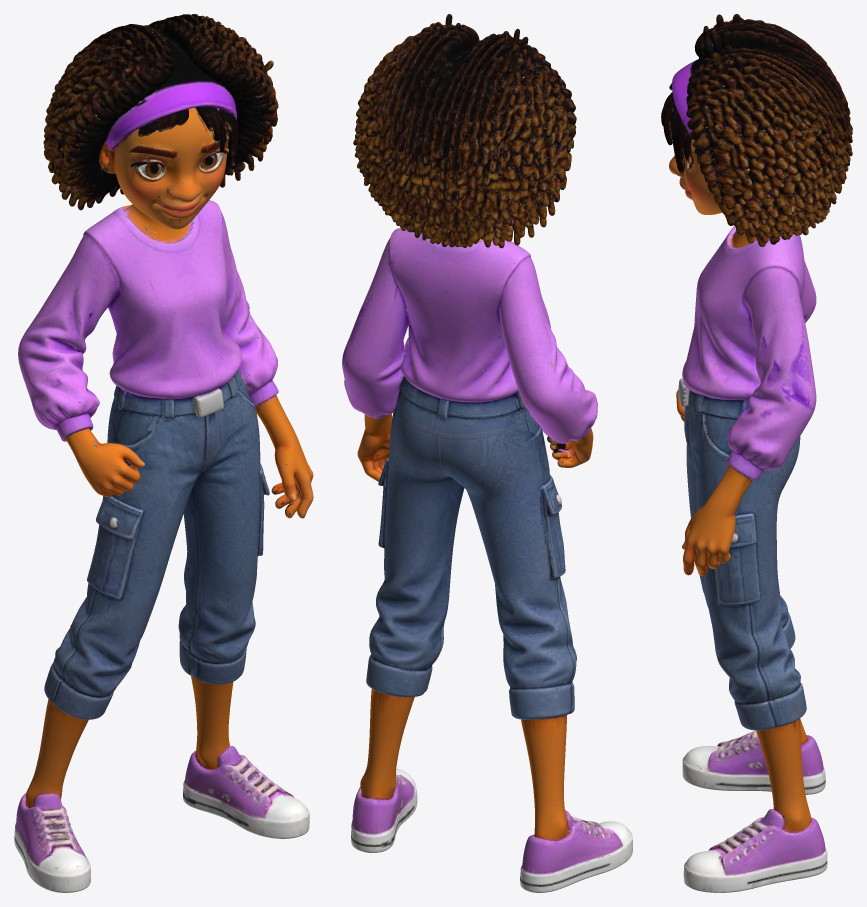
Rendered from Natalia.glb.
3 renders of one model, left to right at view 1: azimuth 30°, elevation 25°; view 2: azimuth 150°, elevation 25°; view 3: azimuth 270°, elevation 25°, orthographic.
Parts seen in each view (by area): view 1: mesh; view 2: mesh; view 3: mesh.
Boxes of the visible parts, box(x1,y1,x2,y2) form: mesh: box(14, 14, 313, 892); mesh: box(342, 14, 632, 892); mesh: box(661, 14, 852, 892).
Bounding box in the file's own units: 0.6877 × 2 × 0.4315.
Materials: 1 (1 with a texture image).
